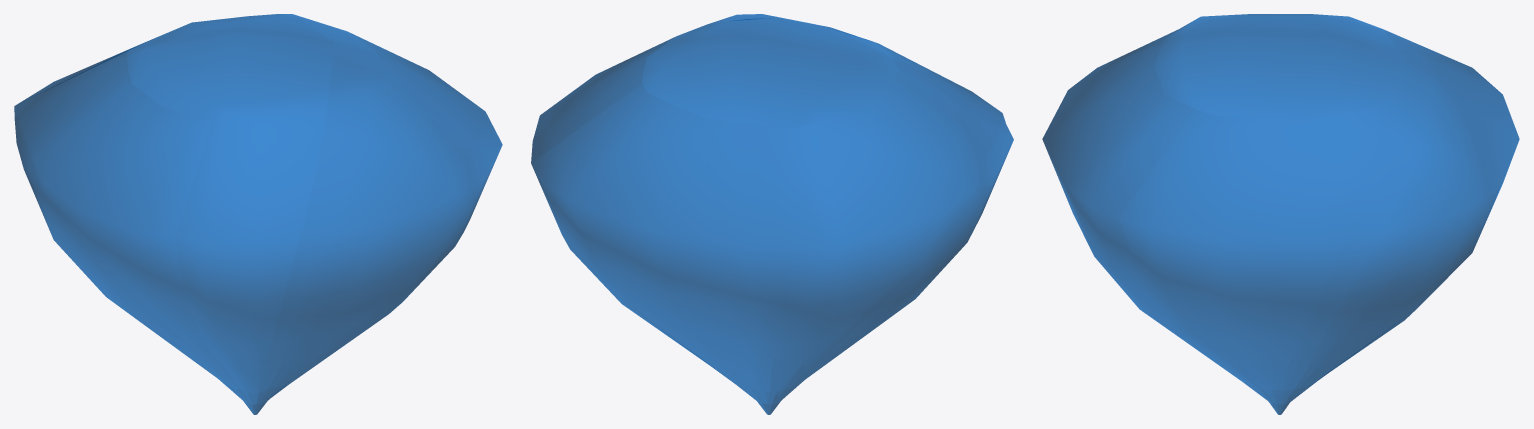
The model's file is RelicBlue.fbx.
3 views of the same model, side by side, from view 1: azimuth 30°, elevation 25°; view 2: azimuth 150°, elevation 25°; view 3: azimuth 270°, elevation 25° (orthographic).
Visible parts, largest first — view 1: pCube1; view 2: pCube1; view 3: pCube1.
Boxes of the visible parts, x1,y1,x2,y2 form: pCube1: [14, 14, 502, 414]; pCube1: [531, 14, 1013, 414]; pCube1: [1042, 14, 1519, 414].
Bounding box in the file's own units: 10.05 × 8.67 × 10.18.
